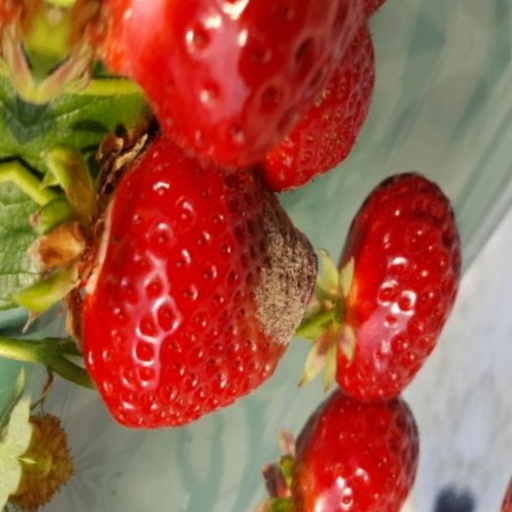Gray Mold: (240, 188, 321, 347)
